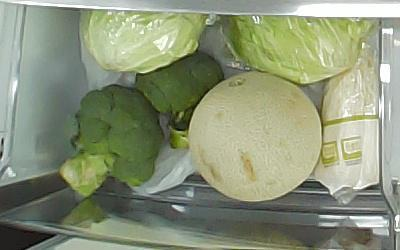broccoli: (60, 84, 165, 197), (137, 51, 225, 150)
cabbage_vinyl: (221, 17, 377, 83), (322, 44, 379, 204), (80, 13, 204, 73)
melon: (189, 70, 323, 202)
